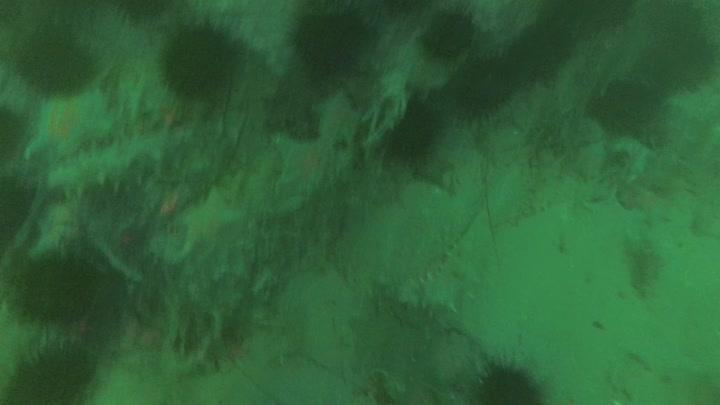urchin: (157, 19, 248, 96), (5, 336, 99, 405), (16, 32, 101, 103), (18, 252, 95, 329), (286, 8, 371, 75), (453, 52, 514, 116), (468, 358, 546, 405), (421, 11, 471, 59)
